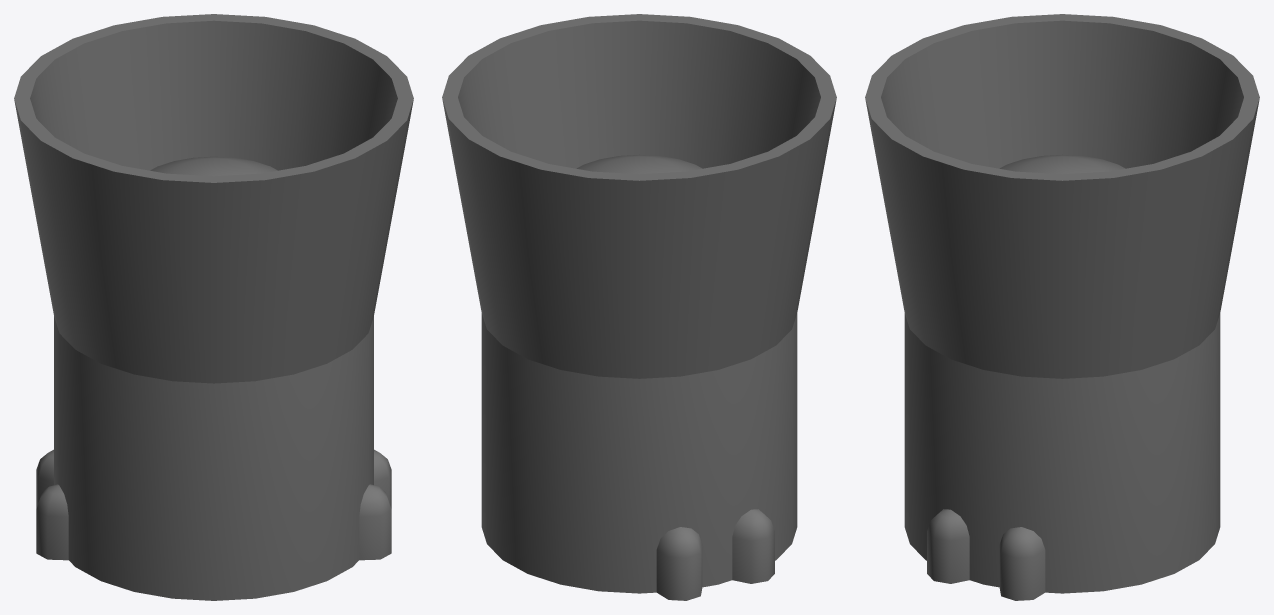
File: alnair_avionics_s0_1.obj
3 renders of one model, left to right at view 1: azimuth 30°, elevation 25°; view 2: azimuth 150°, elevation 25°; view 3: azimuth 270°, elevation 25°, orthographic.
Parts seen in each view (by area): view 1: fairing1, mesh1; view 2: fairing1, mesh1; view 3: fairing1, mesh1.
Boxes of the visible parts, x1,y1,x2,y2 form: fairing1: (14, 14, 413, 383); mesh1: (36, 156, 391, 600); fairing1: (442, 14, 836, 378); mesh1: (481, 154, 797, 600); fairing1: (865, 14, 1259, 378); mesh1: (904, 154, 1220, 600).
Size of the model in its own units: 0.625 by 0.7875 by 0.625.
2 materials, 2 textured.
